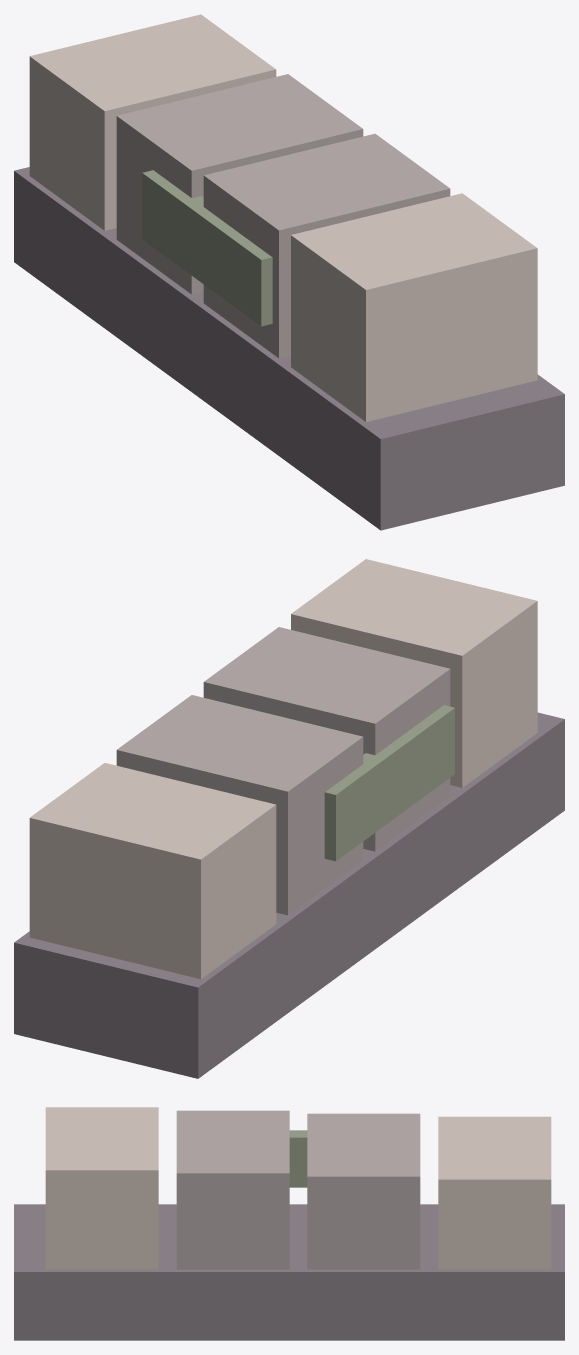
File: menu_road_edge.glb
The picture shows the model from 3 angles, top to bottom: view 1: azimuth 30°, elevation 25°; view 2: azimuth 150°, elevation 25°; view 3: azimuth 270°, elevation 25°; orthographic projection. The views are drawn at different scales.
Parts seen in each view (by area): view 1: Moonpost Warm Causeway Edge; view 2: Moonpost Warm Causeway Edge; view 3: Moonpost Warm Causeway Edge.
Boxes of the visible parts, x1,y1,x2,y2 form: Moonpost Warm Causeway Edge: [14, 14, 564, 530]; Moonpost Warm Causeway Edge: [14, 559, 564, 1078]; Moonpost Warm Causeway Edge: [14, 1107, 564, 1340].
Size of the model in its own units: 1.19 by 1.35 by 4.
